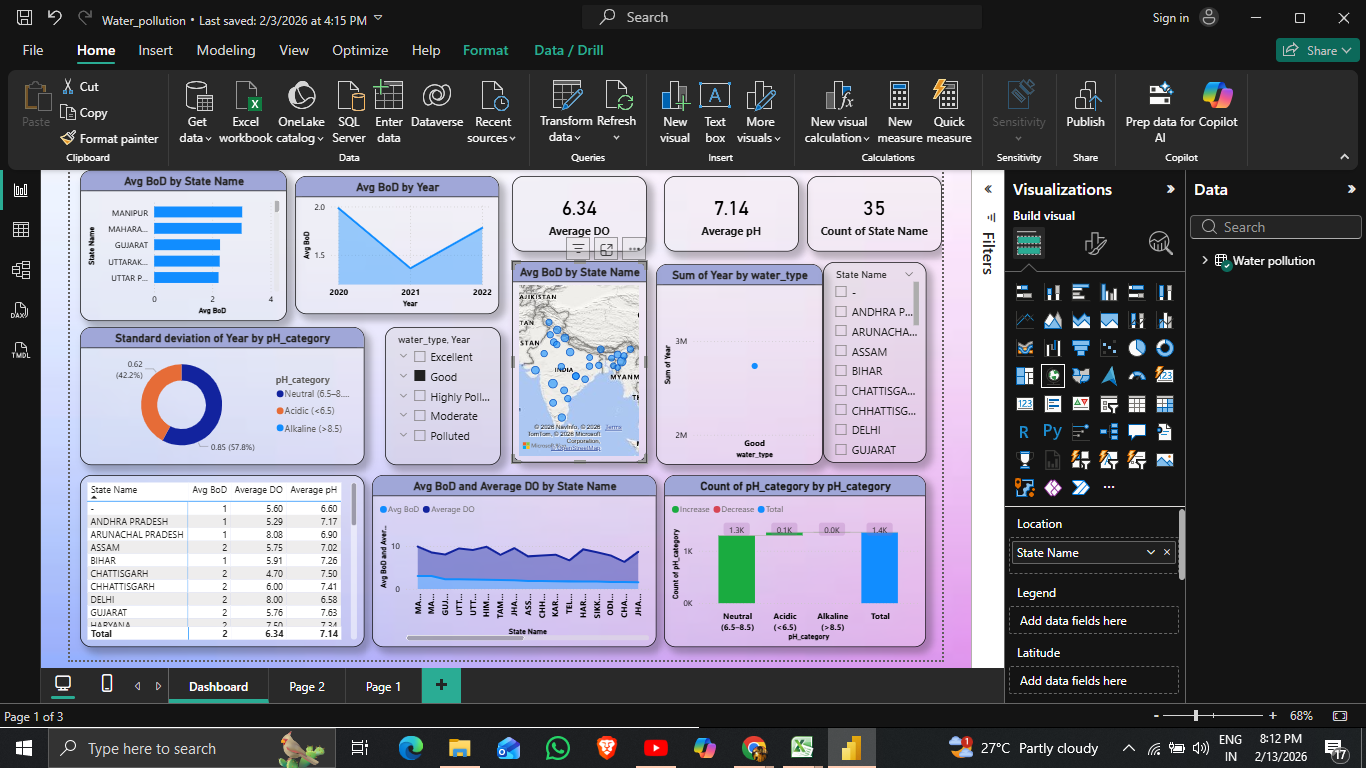

This screenshot's page, from the dashboard's own definition file:
{"tool":"powerbi","page":{"name":"Dashboard","canvas":[1280,720],"ordinal":0},"visuals":[{"type":"clusteredBarChart","fields":{"Category":["Water pollution.State Name"],"Y":["Water pollution.Avg BoD"]},"box":[14.7,0,304.2,221.9],"z":0},{"type":"areaChart","fields":{"Category":["Water pollution.Year"],"Y":["Water pollution.Avg BoD"]},"box":[331.2,8.8,300,202.5],"z":1000},{"type":"card","fields":{"Values":["Water pollution.Average DO"]},"box":[650,8.8,197.5,111.2],"z":2000},{"type":"card","fields":{"Values":["Water pollution.Average pH"]},"box":[872.5,8.8,197.5,111.2],"z":3000},{"type":"donutChart","fields":{"Y":["Water pollution.Year"],"Category":["Water pollution.pH_category"]},"box":[15,230,417.5,202.5],"z":4000},{"type":"slicer","fields":{"Values":["Water pollution.water_type","Water pollution.Year"]},"box":[462.5,230,170,202.5],"z":5000},{"type":"map","fields":{"Size":["Water pollution.Avg BoD"],"Category":["Water pollution.State Name"]},"box":[650,133.8,197.5,296.2],"z":6000},{"type":"lineChart","fields":{"Category":["Water pollution.water_type"],"Y":["Water pollution.Year"]},"box":[861.7,138.3,245,295],"z":7000},{"type":"slicer","fields":{"Values":["Water pollution.State Name"]},"box":[1106.7,135,151.7,295],"z":8000},{"type":"card","fields":{"Values":["Water pollution.State Name"]},"box":[1082.5,8.8,197.5,111.2],"z":9000},{"type":"pivotTable","fields":{"Rows":["Water pollution.State Name"],"Values":["Water pollution.Avg BoD","Water pollution.Average DO","Water pollution.Average pH"]},"box":[15,448.3,418.3,253.3],"z":10000},{"type":"stackedAreaChart","fields":{"Category":["Water pollution.State Name"],"Y":["Water pollution.Avg BoD","Water pollution.Average DO"]},"box":[443.3,448.3,418.3,253.3],"z":11000},{"type":"waterfallChart","fields":{"Category":["Water pollution.pH_category"],"Y":["Water pollution.pH_category"]},"box":[873.3,448.3,385,253.3],"z":12000}]}

Visuals, with their boxes on the page's 1280x720 design canvas (x1, y1, x2, y2). These are canvas units, not pixel positions in the 1366x768 screenshot, which may show the page scaled, cropped or inside an application window:
clusteredBarChart - Water pollution.State Name x Water pollution.Avg BoD: left=15, top=0, right=319, bottom=222
areaChart - Water pollution.Year x Water pollution.Avg BoD: left=331, top=9, right=631, bottom=211
card - Water pollution.Average DO: left=650, top=9, right=848, bottom=120
card - Water pollution.Average pH: left=872, top=9, right=1070, bottom=120
donutChart - Water pollution.Year x Water pollution.pH_category: left=15, top=230, right=432, bottom=432
slicer - Water pollution.water_type x Water pollution.Year: left=462, top=230, right=632, bottom=432
map - Water pollution.Avg BoD x Water pollution.State Name: left=650, top=134, right=848, bottom=430
lineChart - Water pollution.water_type x Water pollution.Year: left=862, top=138, right=1107, bottom=433
slicer - Water pollution.State Name: left=1107, top=135, right=1258, bottom=430
card - Water pollution.State Name: left=1082, top=9, right=1280, bottom=120
pivotTable - Water pollution.State Name x Water pollution.Avg BoD: left=15, top=448, right=433, bottom=702
stackedAreaChart - Water pollution.State Name x Water pollution.Avg BoD: left=443, top=448, right=862, bottom=702
waterfallChart - Water pollution.pH_category x Water pollution.pH_category: left=873, top=448, right=1258, bottom=702
